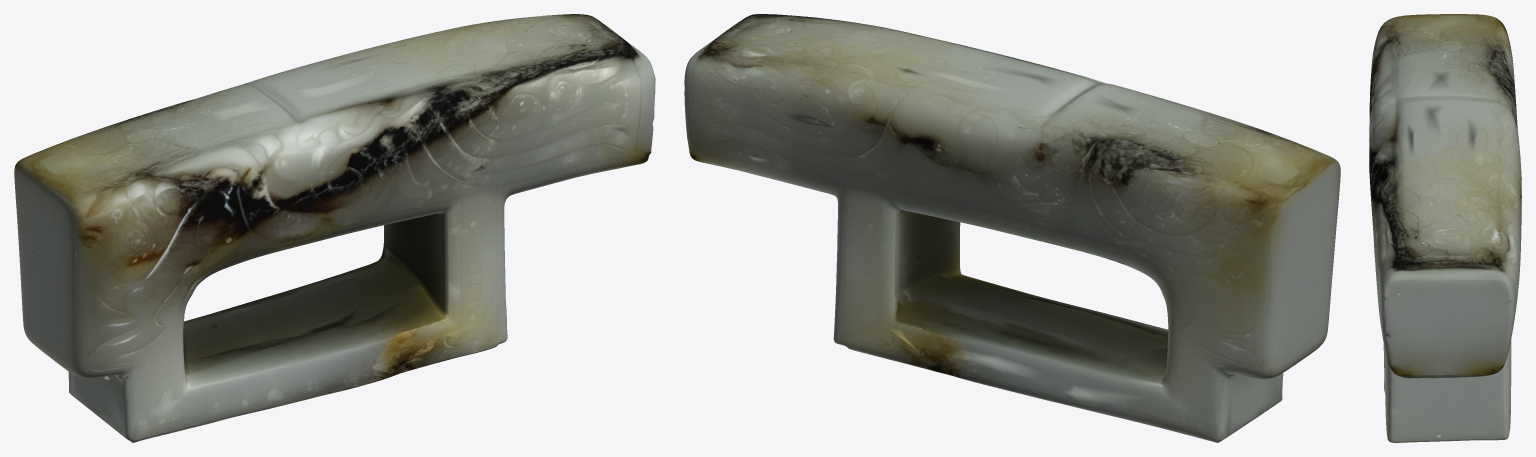
The model's file is dragon-phoenix-zhi-detail.glb.
3 views of the same model, side by side, from view 1: azimuth 30°, elevation 25°; view 2: azimuth 150°, elevation 25°; view 3: azimuth 270°, elevation 25° (orthographic). The views are drawn at different scales.
Visible parts, largest first — view 1: node_0; view 2: node_0; view 3: node_0.
Part boxes in pixels (left/top/right/bottom): node_0: left=14, top=14, right=655, bottom=442; node_0: left=684, top=14, right=1340, bottom=442; node_0: left=1369, top=14, right=1521, bottom=442.
Size of the model in its own units: 1.11 by 0.5235 by 0.2702.
Materials: 1 (1 with a texture image).
